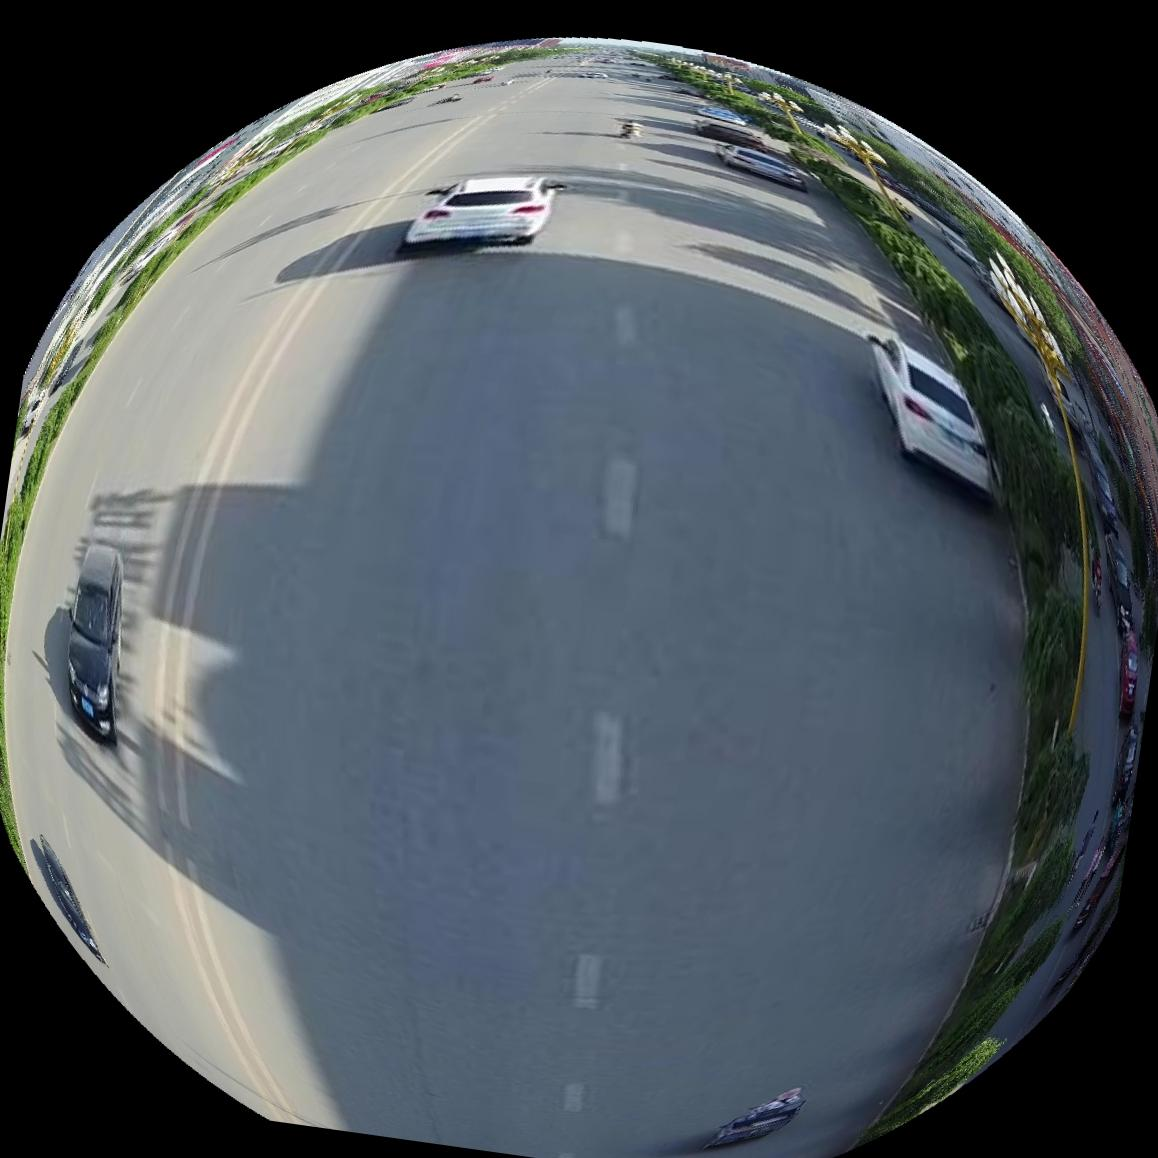cars: (872, 334, 995, 496), (404, 174, 562, 244), (66, 544, 121, 744), (29, 837, 102, 964), (706, 1091, 806, 1150), (718, 142, 806, 190), (696, 117, 767, 148)
trees: (971, 382, 1083, 575), (940, 917, 1066, 1058), (971, 827, 1076, 985), (861, 1039, 1006, 1145), (927, 288, 1018, 419), (1025, 573, 1090, 745), (1014, 720, 1090, 866)
